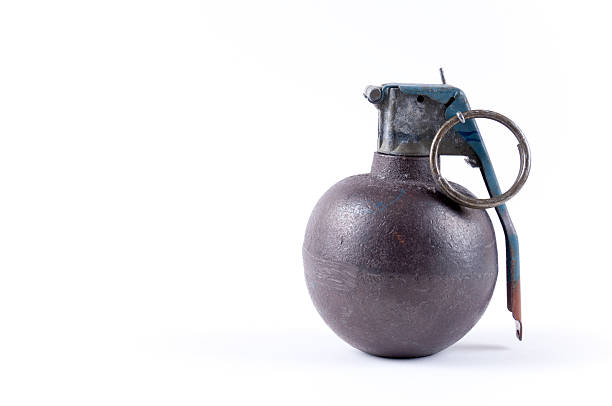e1: (295, 73, 531, 366)
